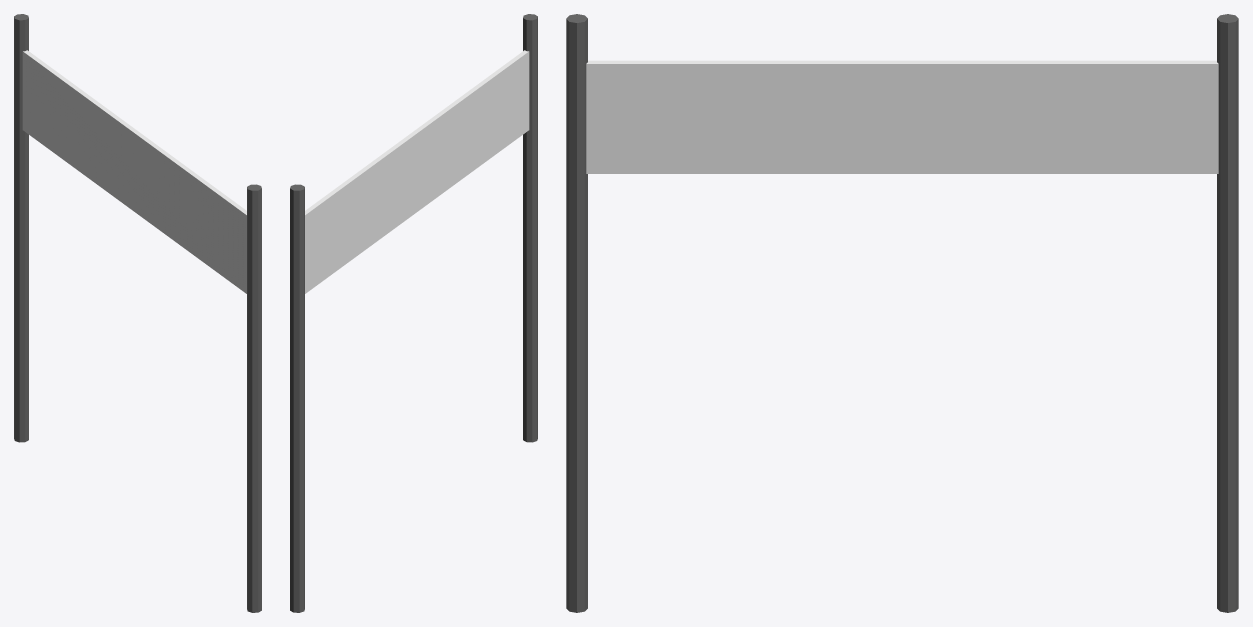
Rendered from A_Flag.glb.
The picture shows the model from 3 angles, left to right: view 1: azimuth 30°, elevation 25°; view 2: azimuth 150°, elevation 25°; view 3: azimuth 270°, elevation 25°; orthographic projection. The views are drawn at different scales.
Visible parts, largest first — view 1: Cube, Cylinder, Cylinder.001; view 2: Cube, Cylinder.001, Cylinder; view 3: Cube, Cylinder, Cylinder.001.
Part boxes in pixels (x1,y1,x2,y2): Cube: (22,50,246,293); Cylinder: (247,184,261,612); Cylinder.001: (14,14,28,442); Cube: (305,50,529,293); Cylinder.001: (290,184,304,612); Cylinder: (523,14,537,442); Cube: (586,60,1218,173); Cylinder: (566,14,587,612); Cylinder.001: (1217,14,1238,612).
Size of the model in its own units: 0.1 by 3 by 3.1.
Materials: 2 (1 with a texture image).
